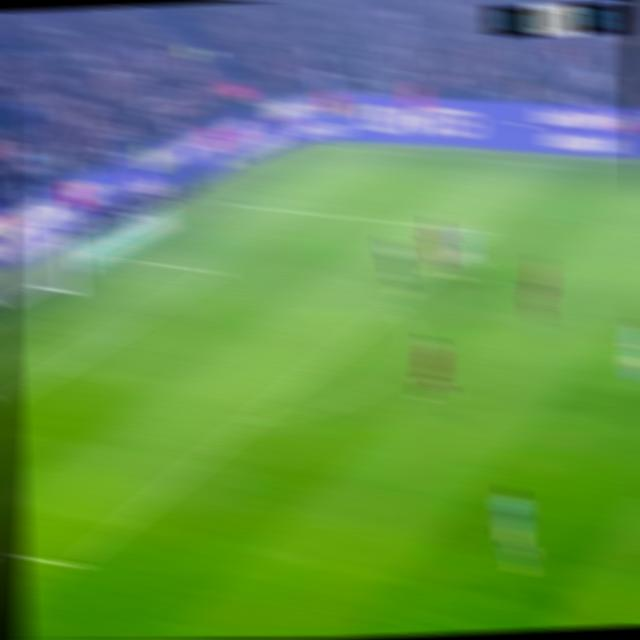bigarea_bottom_inner: (59, 553, 88, 576)
bigarea_top_inner: (473, 222, 496, 240)
bigarea_top_outter: (219, 195, 241, 209)
bottom_arc_area_intersection: (240, 412, 263, 430)
corner: (320, 141, 343, 152)
smallarea_bottom_inner: (2, 389, 19, 411)
smallarea_top_inner: (203, 262, 228, 280)
smallarea_top_outter: (122, 252, 143, 266)
top_arc_area_intersection: (379, 296, 404, 318)
